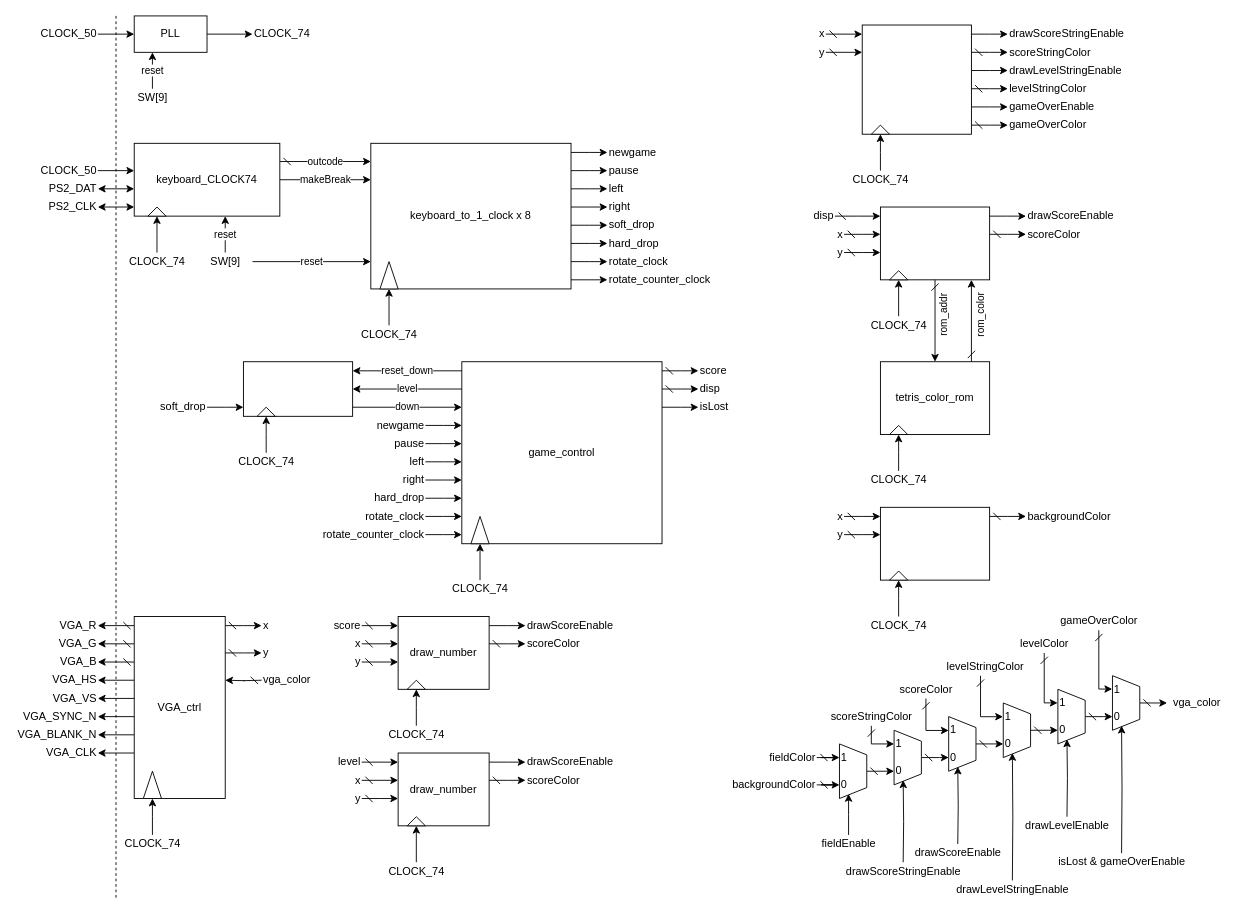
The diagram is 1259 pixels wide and 915 high, and some of its shapes have lost their labels. Here are the shapes that lost their labels. From the top down, the box of each, then its label:
(861, 24, 971, 134): draw_string x 3
(880, 206, 990, 280): draw_field_rom
(243, 361, 353, 416): down_signal_gen
(880, 506, 990, 580): waifu
